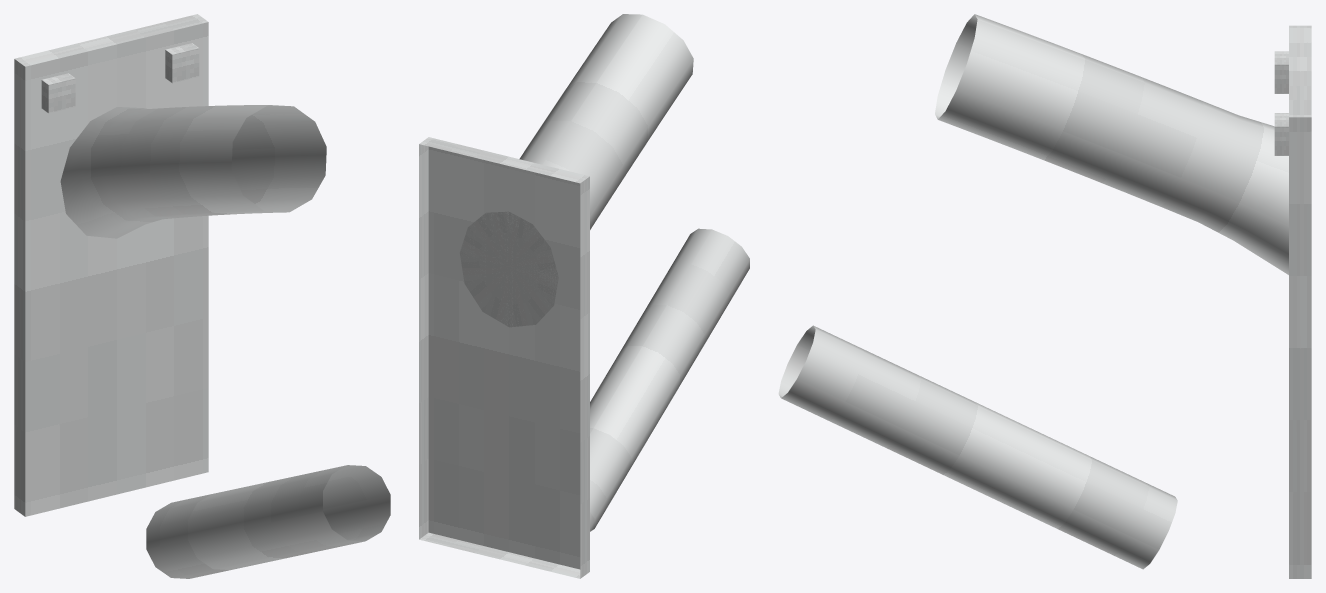
File: luminairearm_truss15ftdouble_c11_wall.obj
3 renders of one model, left to right at view 1: azimuth 30°, elevation 25°; view 2: azimuth 150°, elevation 25°; view 3: azimuth 270°, elevation 25°, orthographic. The views are drawn at different scales.
Visible parts, largest first — view 1: luminairearm_truss15ftdouble_c11_wall; view 2: luminairearm_truss15ftdouble_c11_wall; view 3: luminairearm_truss15ftdouble_c11_wall.
Part boxes in pixels (x1,y1,x2,y2): luminairearm_truss15ftdouble_c11_wall: [14, 14, 390, 578]; luminairearm_truss15ftdouble_c11_wall: [419, 14, 749, 578]; luminairearm_truss15ftdouble_c11_wall: [778, 14, 1311, 578].
Bounding box in the file's own units: 0.4222 × 1.17 × 1.04.
